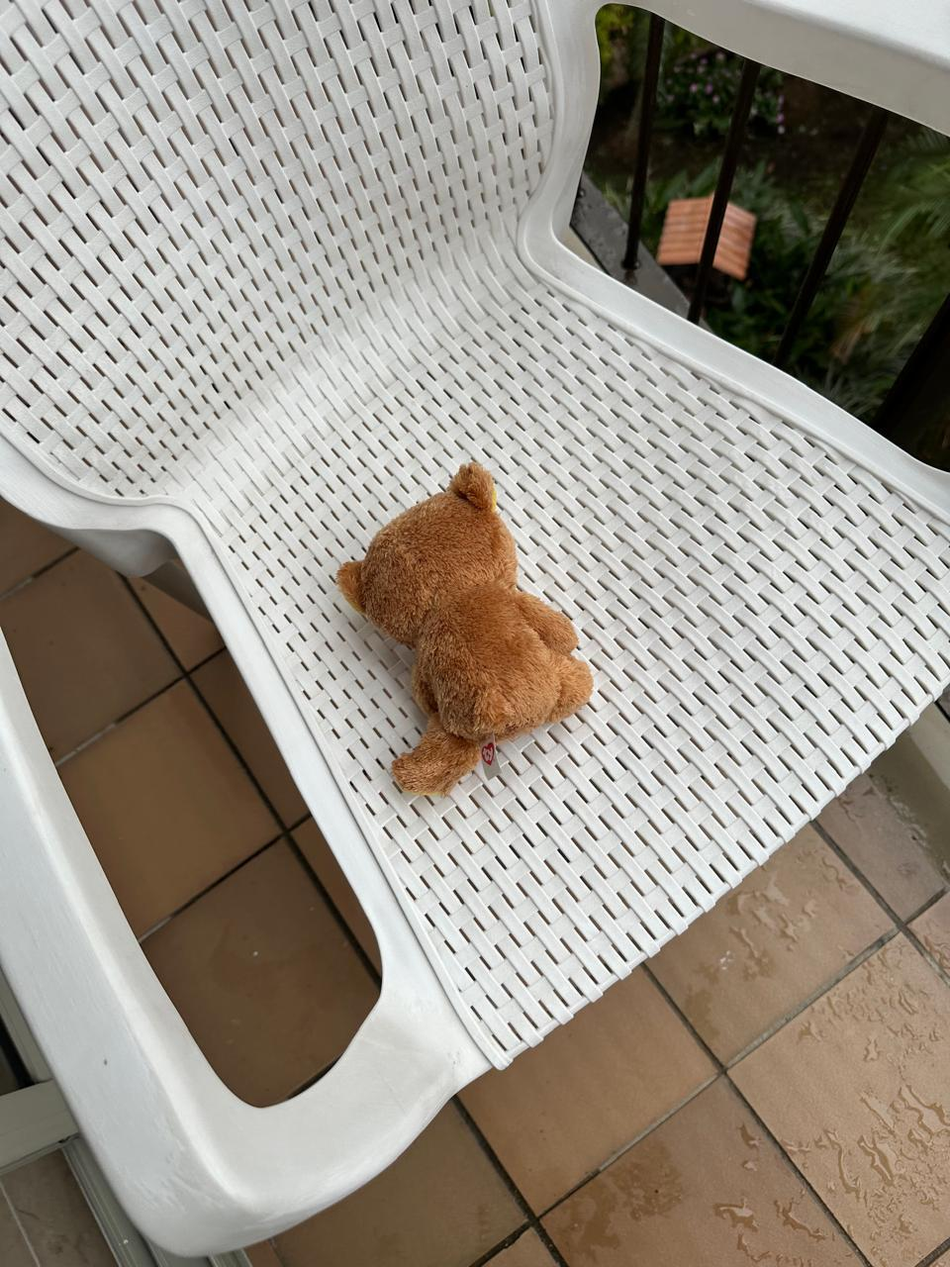peluche_sebastian: (334, 455, 599, 797)
